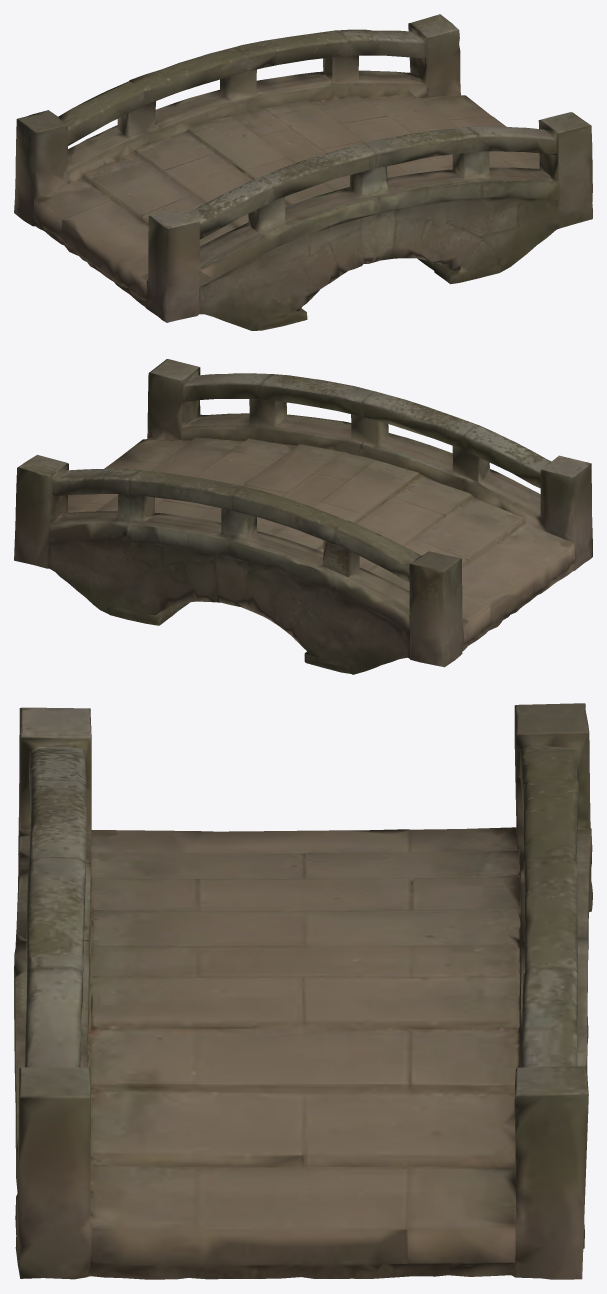
The model's file is bridge.glb.
3 views of the same model, one above another, from view 1: azimuth 30°, elevation 25°; view 2: azimuth 150°, elevation 25°; view 3: azimuth 270°, elevation 25° (orthographic). The views are drawn at different scales.
Parts seen in each view (by area): view 1: ve1hfee_LOD0_TIER2_000; view 2: ve1hfee_LOD0_TIER2_000; view 3: ve1hfee_LOD0_TIER2_000.
Part boxes in pixels (x1,y1,x2,y2): ve1hfee_LOD0_TIER2_000: (14,14,592,330); ve1hfee_LOD0_TIER2_000: (14,359,592,674); ve1hfee_LOD0_TIER2_000: (14,703,592,1279).
Bounding box in the file's own units: 2.49 × 0.8198 × 1.52.
1 material, 1 textured.
